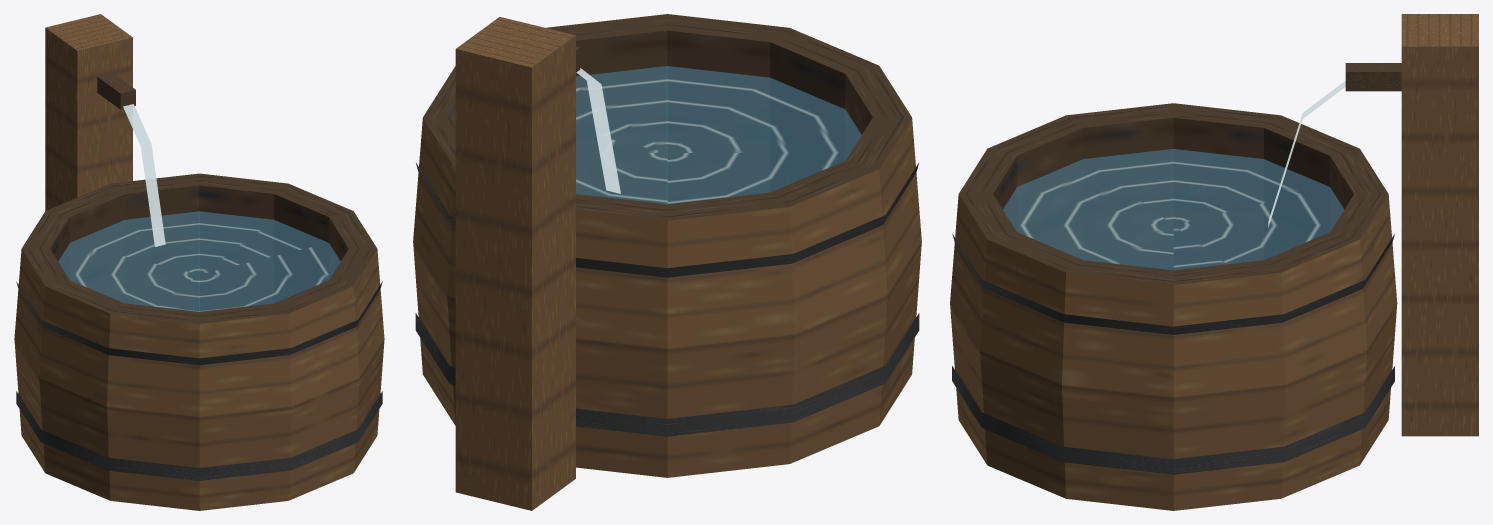
The model's file is brunnen_v9.glb.
The picture shows the model from 3 angles, left to right: view 1: azimuth 30°, elevation 25°; view 2: azimuth 150°, elevation 25°; view 3: azimuth 270°, elevation 25°; orthographic projection. The views are drawn at different scales.
Parts seen in each view (by area): view 1: V9; view 2: V9; view 3: V9.
Part boxes in pixels (box(x1,y1,x2,y2)): V9: box(14, 14, 384, 510); V9: box(413, 14, 921, 510); V9: box(950, 14, 1478, 510).
Size of the model in its own units: 1.04 by 1 by 1.23.
2 materials, 2 textured.
